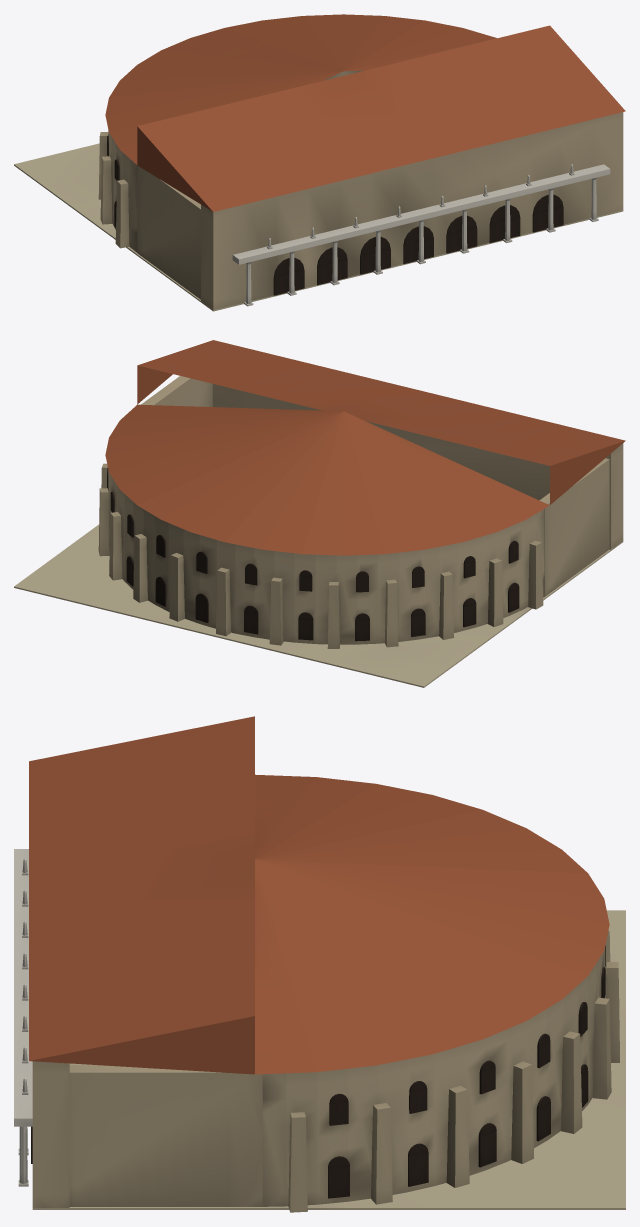
File: odeon.glb
3 renders of one model, top to bottom at view 1: azimuth 30°, elevation 25°; view 2: azimuth 150°, elevation 25°; view 3: azimuth 270°, elevation 25°, orthographic. The views are drawn at different scales.
Visible parts, largest first — view 1: p2_roof, p0_walls, p1_windows; view 2: p2_roof, p0_walls, p1_windows; view 3: p2_roof, p0_walls, p1_windows.
Boxes of the visible parts, x1,y1,x2,y2 form: p2_roof: (105,14,625,249); p0_walls: (14,112,623,311); p1_windows: (98,132,610,306); p2_roof: (105,340,625,555); p0_walls: (14,376,623,687); p1_windows: (98,463,543,648); p2_roof: (22,716,609,1094); p0_walls: (32,910,625,1209); p1_windows: (14,849,619,1212).
Bounding box in the file's own units: 97.97 × 30 × 82.5.
